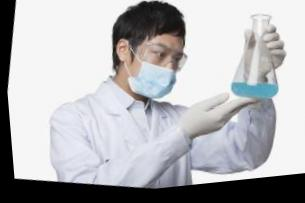WRONG: (124, 39, 188, 110)
